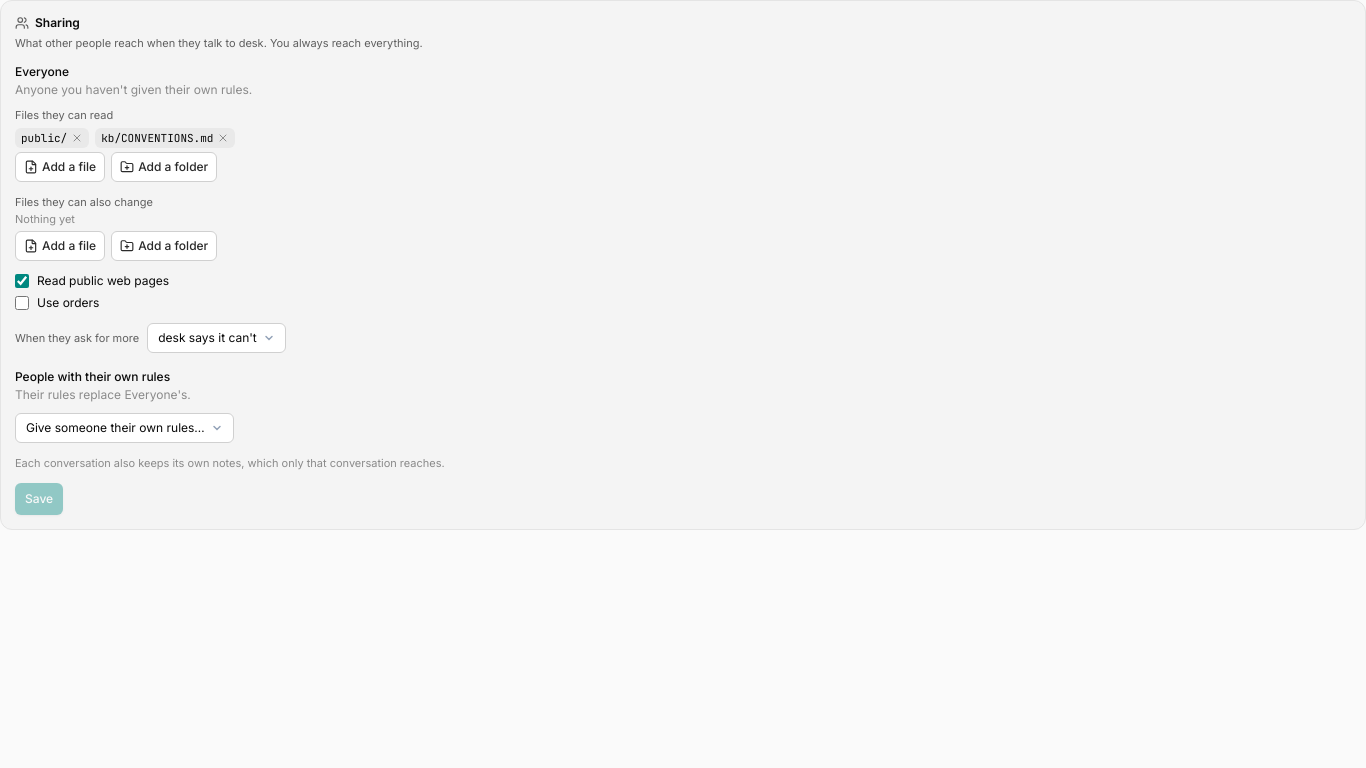
SharingPanel › adds a shared folder and a service, then saves
Click the button with test id "sharing-everyone-read-folder".
click(164, 167)  # box [111, 152, 217, 182]
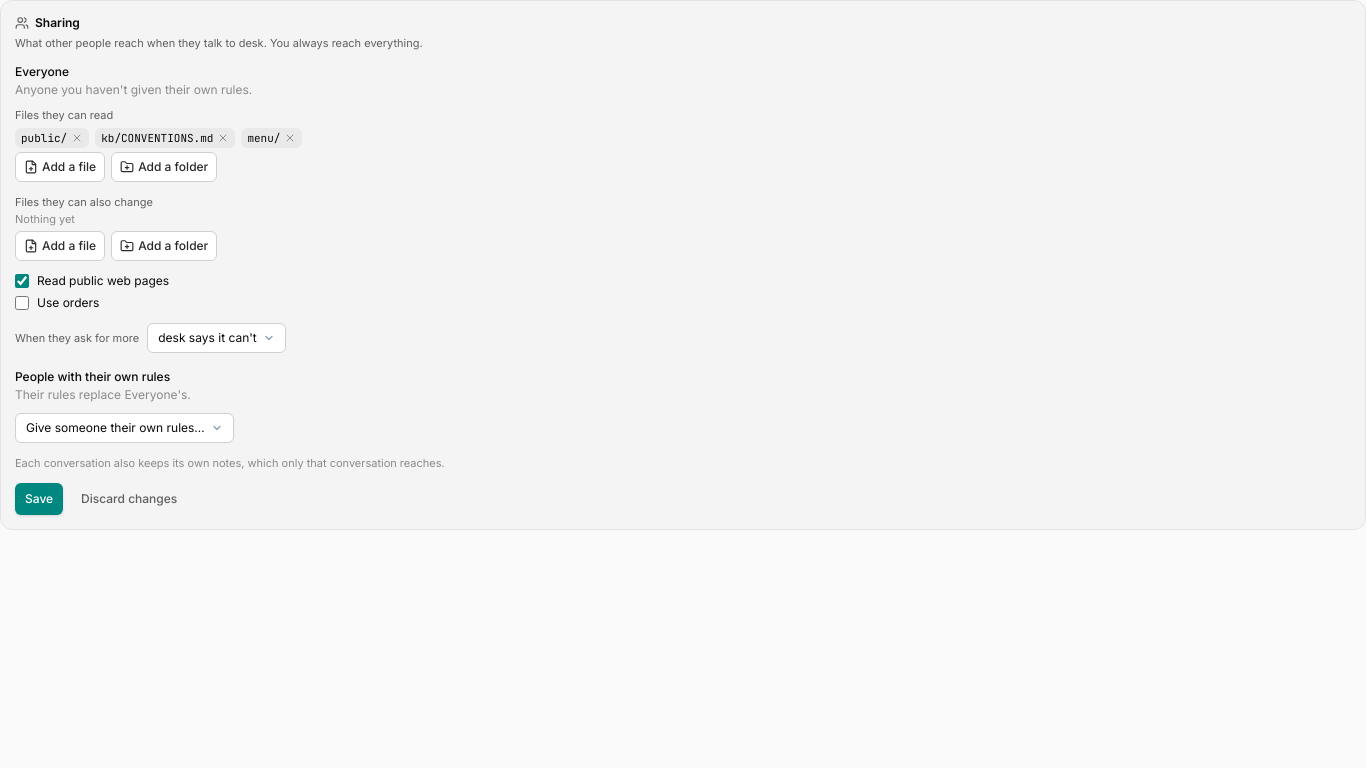
Check: the list item "menu/" is shown, box [241, 128, 302, 148]
Click the checkbox with test id "sharing-everyone-service-orders".
click(22, 303)  # box [15, 296, 29, 310]
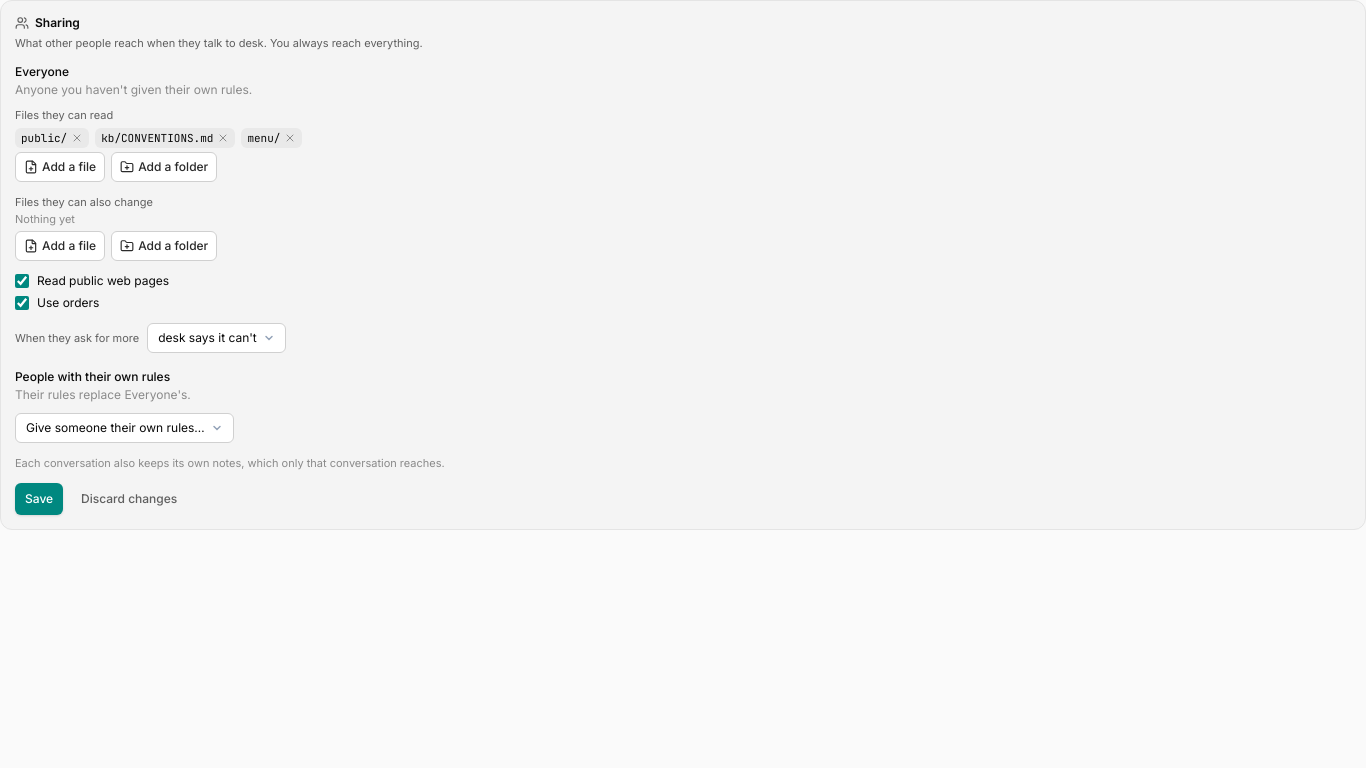
Select "Ask me" in the dropdown labelled "When they ask for more" at (217, 338), box [147, 323, 286, 353]
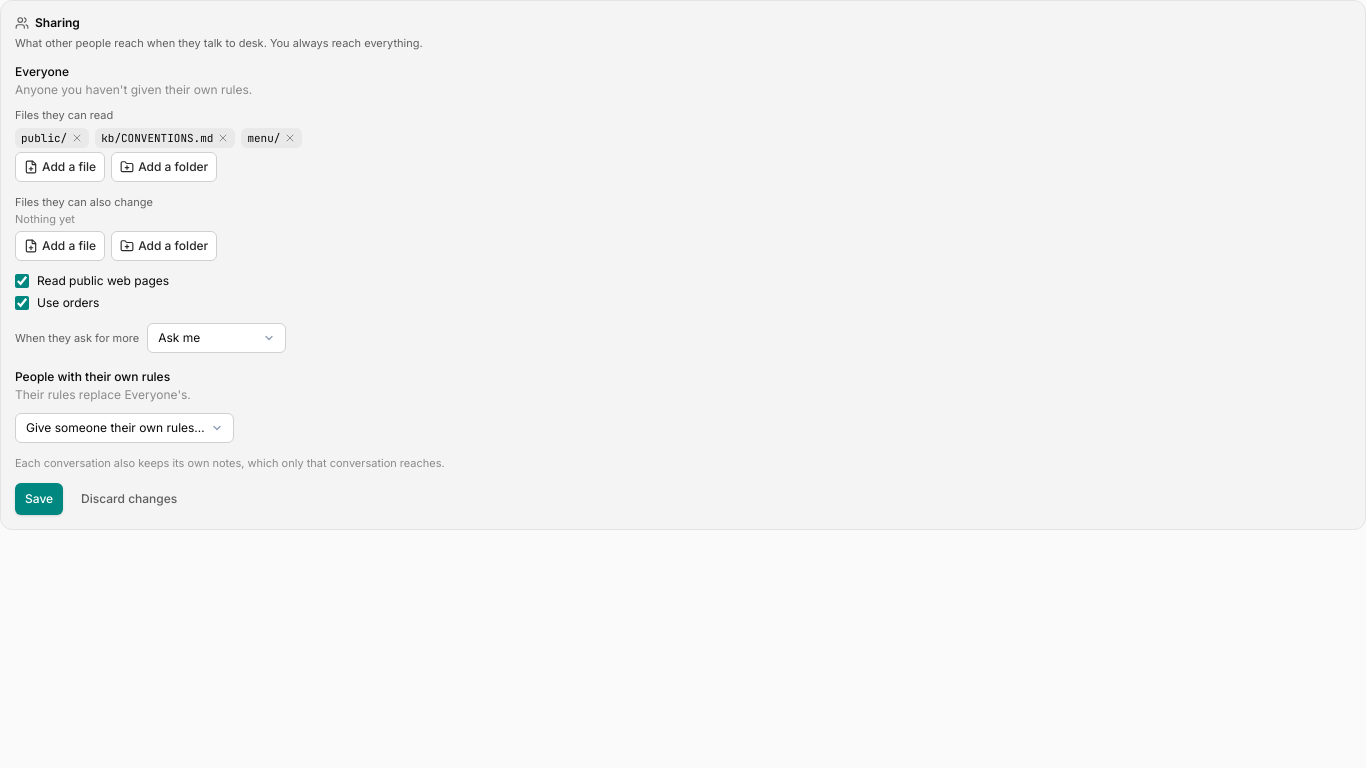
Click the button with test id "sharing-save".
click(39, 499)  # box [15, 483, 63, 515]
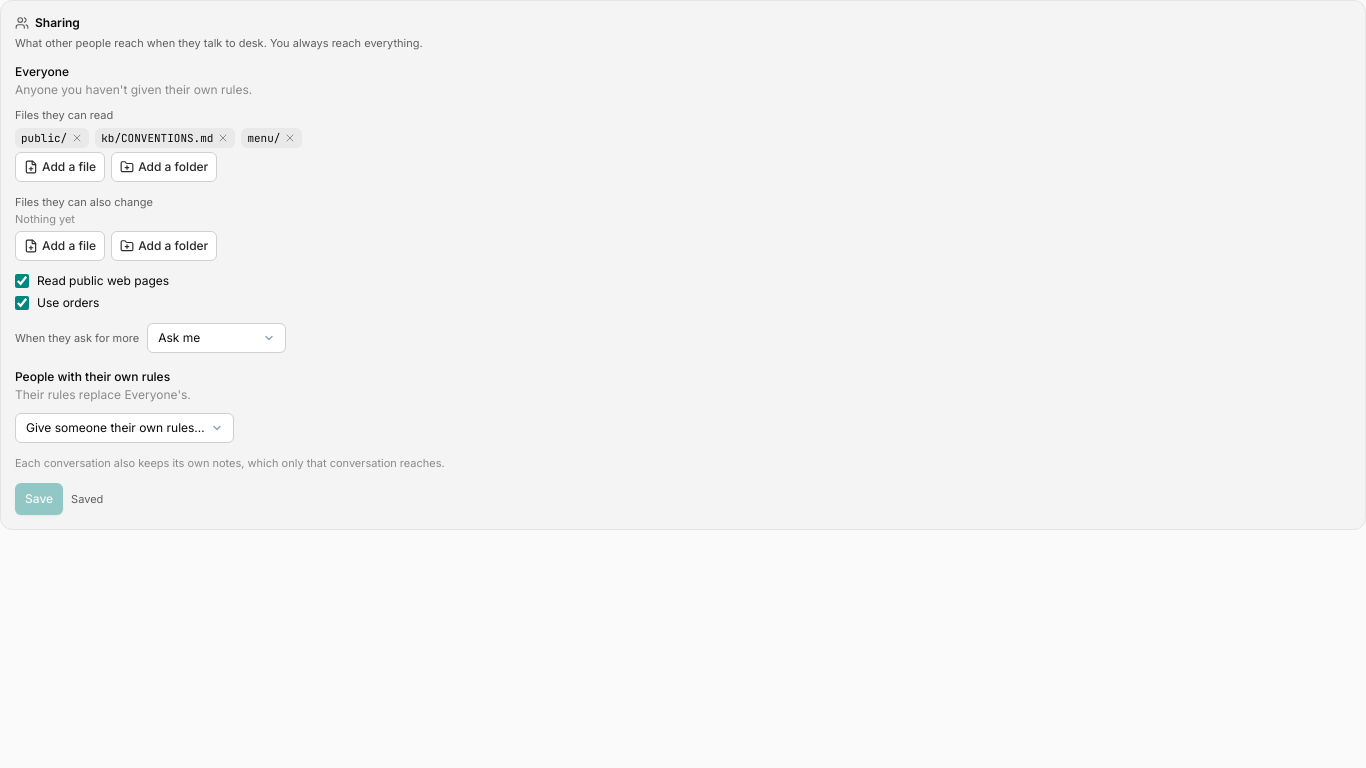
Check: the text "Saved" is shown, box [71, 491, 103, 507]
